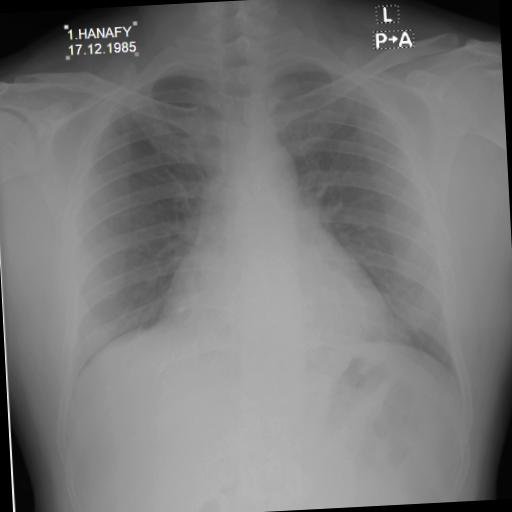kardiomegali: (32, 32, 470, 416)
